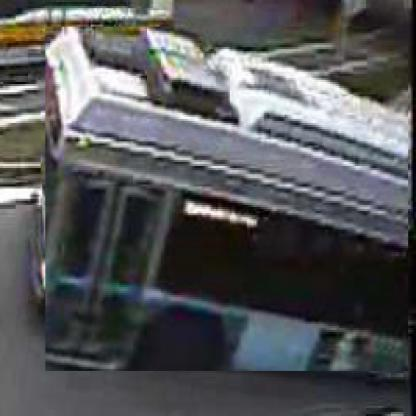bus: (45, 28, 409, 374)
